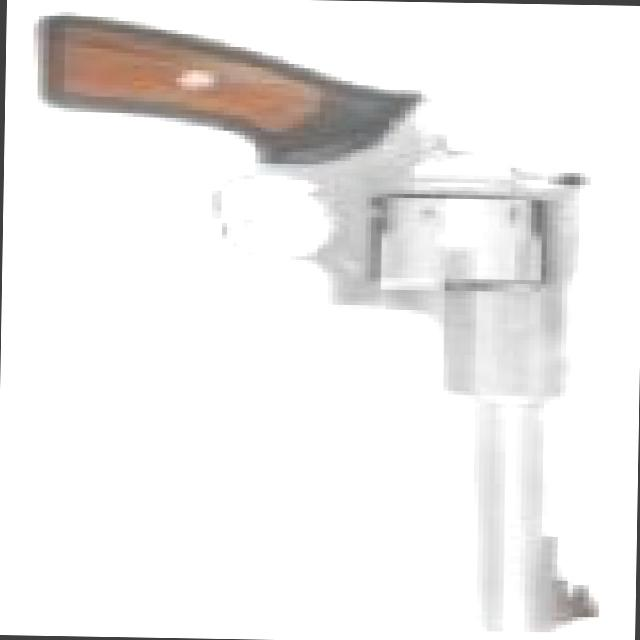handgun: (42, 11, 619, 629)
